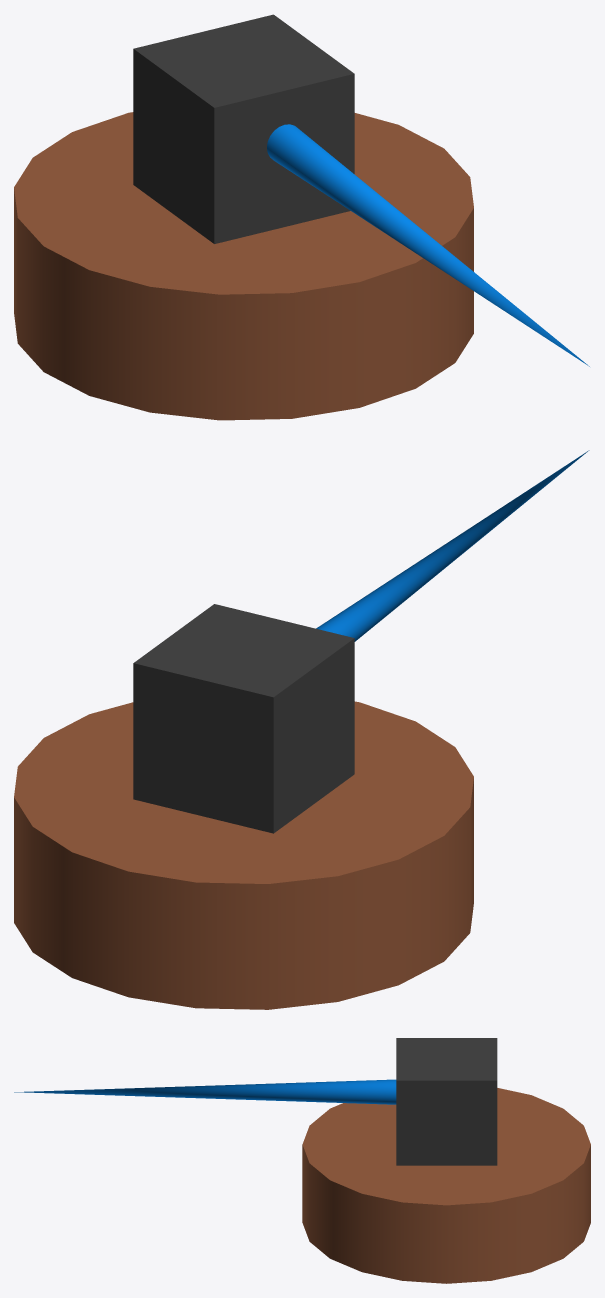
The model's file is RotateBlade.fbx.
3 views of the same model, one above another, from view 1: azimuth 30°, elevation 25°; view 2: azimuth 150°, elevation 25°; view 3: azimuth 270°, elevation 25° (orthographic). The views are drawn at different scales.
Visible parts, largest first — view 1: pCube3; view 2: pCube3; view 3: pCube3.
Part boxes in pixels (x1=…): pCube3: x1=14, y1=14, x2=589, y2=420; pCube3: x1=14, y1=450, x2=589, y2=1009; pCube3: x1=14, y1=1038, x2=590, y2=1283.
Size of the model in its own units: 1 by 0.625 by 2.
